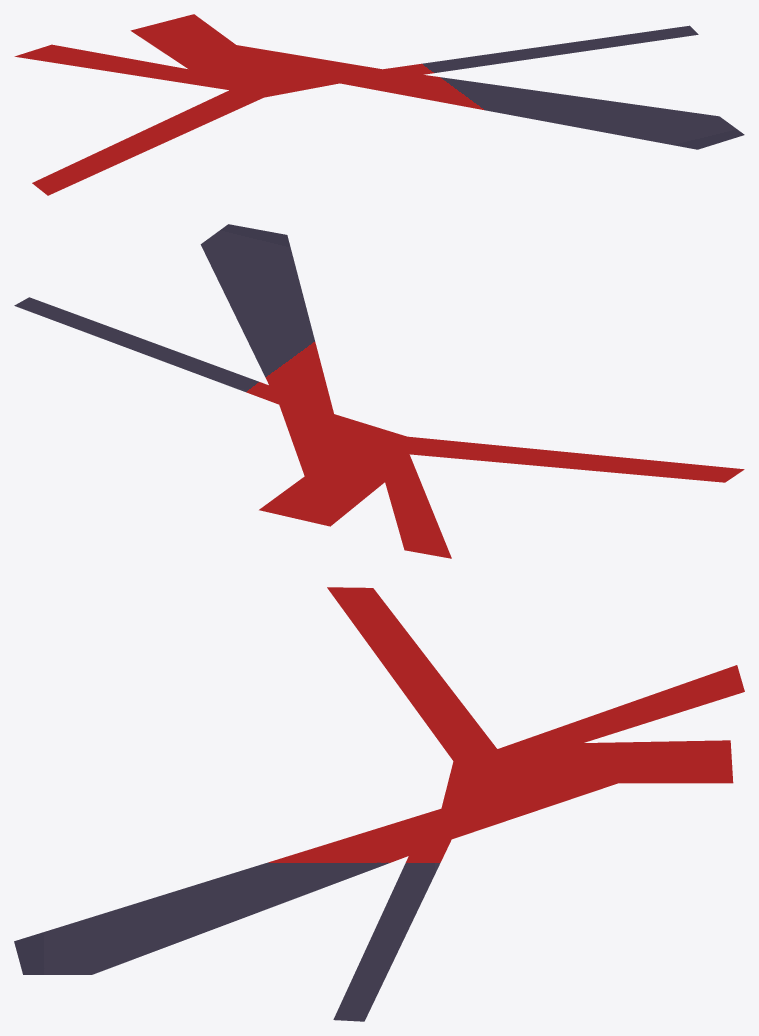
Rendered from west_zs13_sd.FBX.
3 views of the same model, one above another, from view 1: azimuth 30°, elevation 25°; view 2: azimuth 150°, elevation 25°; view 3: azimuth 270°, elevation 25° (orthographic). The views are drawn at different scales.
Parts seen in each view (by area): view 1: west_zs13_sd; view 2: west_zs13_sd; view 3: west_zs13_sd.
Part boxes in pixels (x1=…): west_zs13_sd: x1=14, y1=14, x2=744, y2=195; west_zs13_sd: x1=14, y1=224, x2=744, y2=558; west_zs13_sd: x1=14, y1=587, x2=744, y2=1021.
Size of the model in its own units: 3789 by 0.000236 by 2694.
